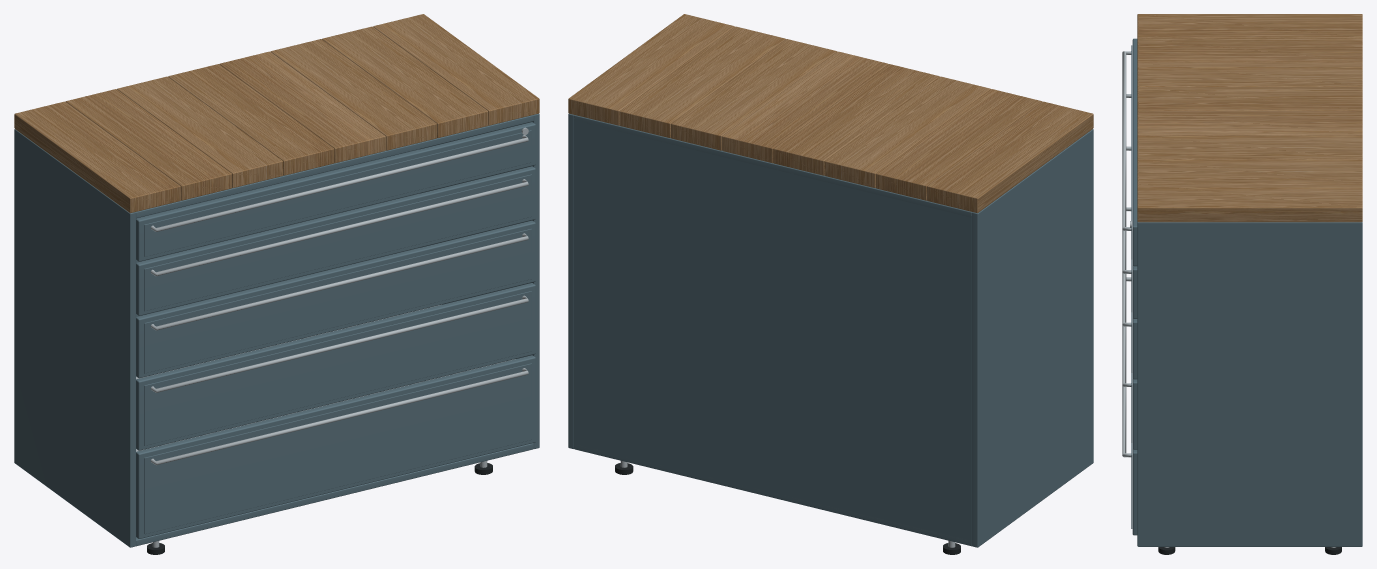
Rendered from garage-drawer-base.glb.
3 renders of one model, left to right at view 1: azimuth 30°, elevation 25°; view 2: azimuth 150°, elevation 25°; view 3: azimuth 270°, elevation 25°, orthographic. The views are drawn at different scales.
Parts seen in each view (by area): view 1: catalog_surface_RealismUV, catalog_surface_UVMap; view 2: catalog_surface_RealismUV, catalog_surface_UVMap; view 3: catalog_surface_RealismUV, catalog_surface_UVMap.
Part boxes in pixels (box(x1,y1,x2,y2)): catalog_surface_RealismUV: box(14, 113, 539, 554); catalog_surface_UVMap: box(14, 14, 539, 213); catalog_surface_RealismUV: box(568, 113, 1093, 554); catalog_surface_UVMap: box(568, 14, 1093, 213); catalog_surface_RealismUV: box(1122, 38, 1362, 554); catalog_surface_UVMap: box(1137, 14, 1362, 222).
Size of the model in its own units: 1.07 by 0.93 by 0.559.
Materials: 5 (2 with a texture image).
